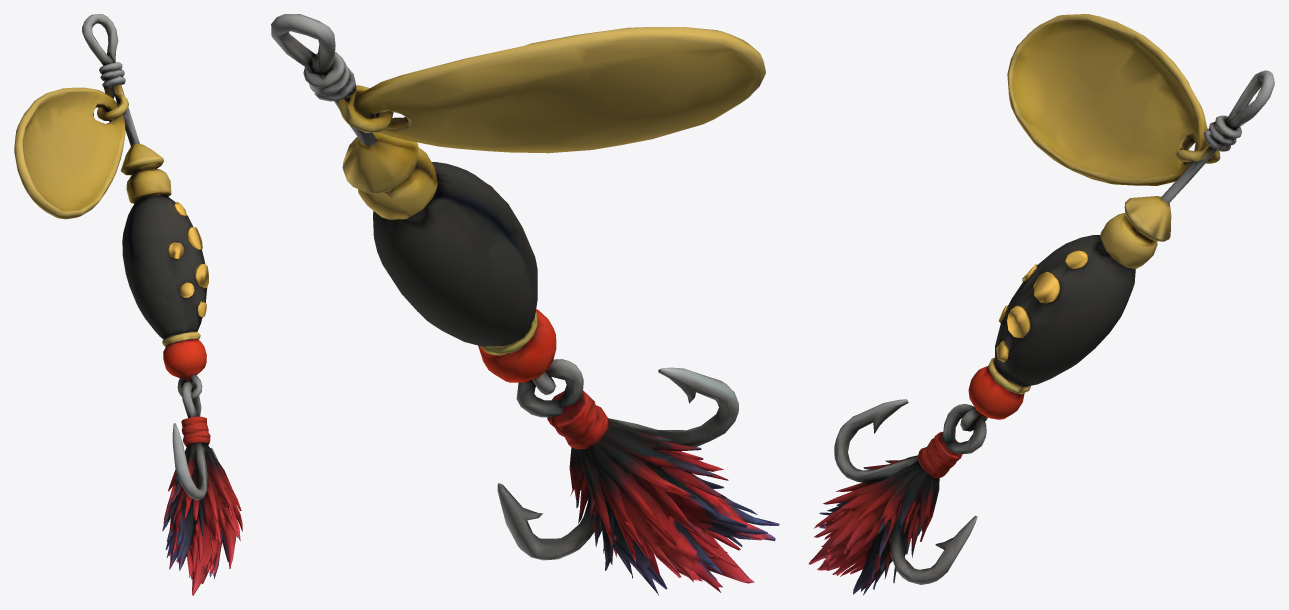
Rendered from gear-spinner.glb.
3 renders of one model, left to right at view 1: azimuth 30°, elevation 25°; view 2: azimuth 150°, elevation 25°; view 3: azimuth 270°, elevation 25°, orthographic. The views are drawn at different scales.
Parts seen in each view (by area): view 1: tripo_node_5fa8ce0a-42d0-44f2-9822-6aa004fbe705; view 2: tripo_node_5fa8ce0a-42d0-44f2-9822-6aa004fbe705; view 3: tripo_node_5fa8ce0a-42d0-44f2-9822-6aa004fbe705.
Boxes of the visible parts, x1,y1,x2,y2 form: tripo_node_5fa8ce0a-42d0-44f2-9822-6aa004fbe705: (14,14,242,595); tripo_node_5fa8ce0a-42d0-44f2-9822-6aa004fbe705: (271,14,779,595); tripo_node_5fa8ce0a-42d0-44f2-9822-6aa004fbe705: (808,14,1274,595).
Size of the model in its own units: 0.4665 by 0.9994 by 0.7681.
1 material, 1 textured.
